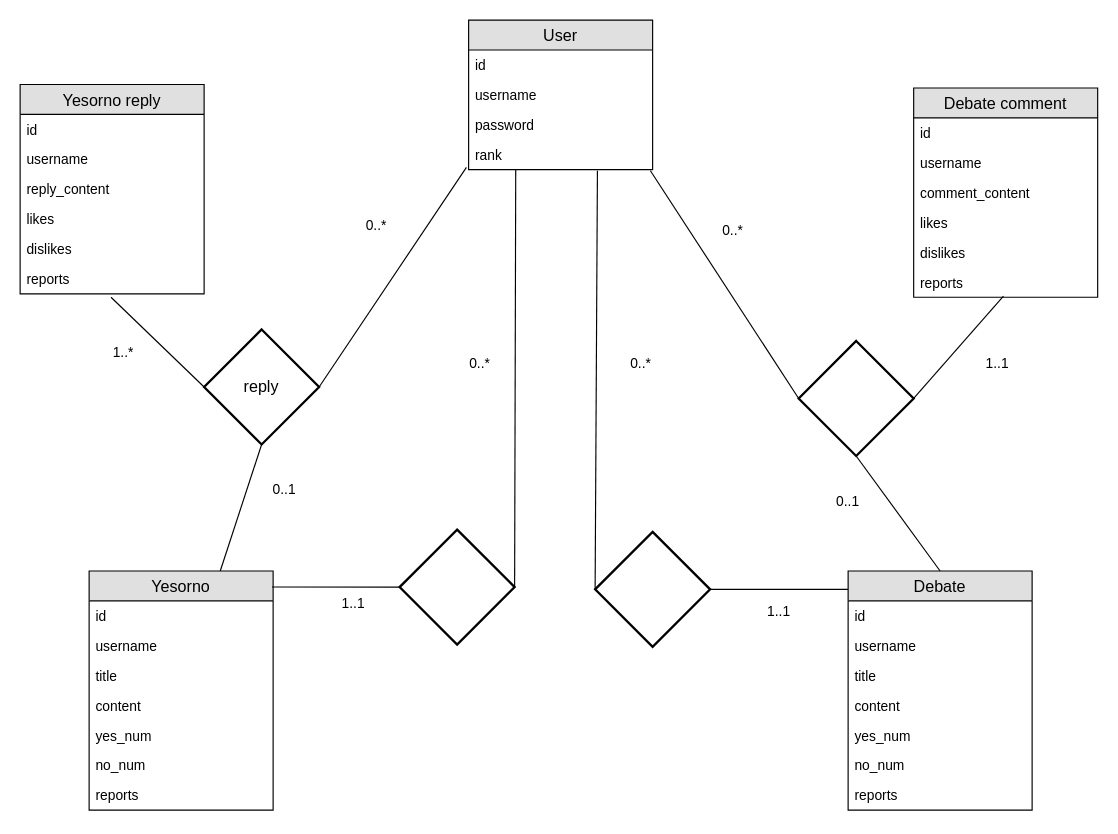
Image size: 1118x834. Some labels were removed from this diagram. Each missing label, with the centre of its shape:
"comment" belongs at pixel 855 398.
"post debate" belongs at pixel 652 588.
"post yesorno" belongs at pixel 456 586.
